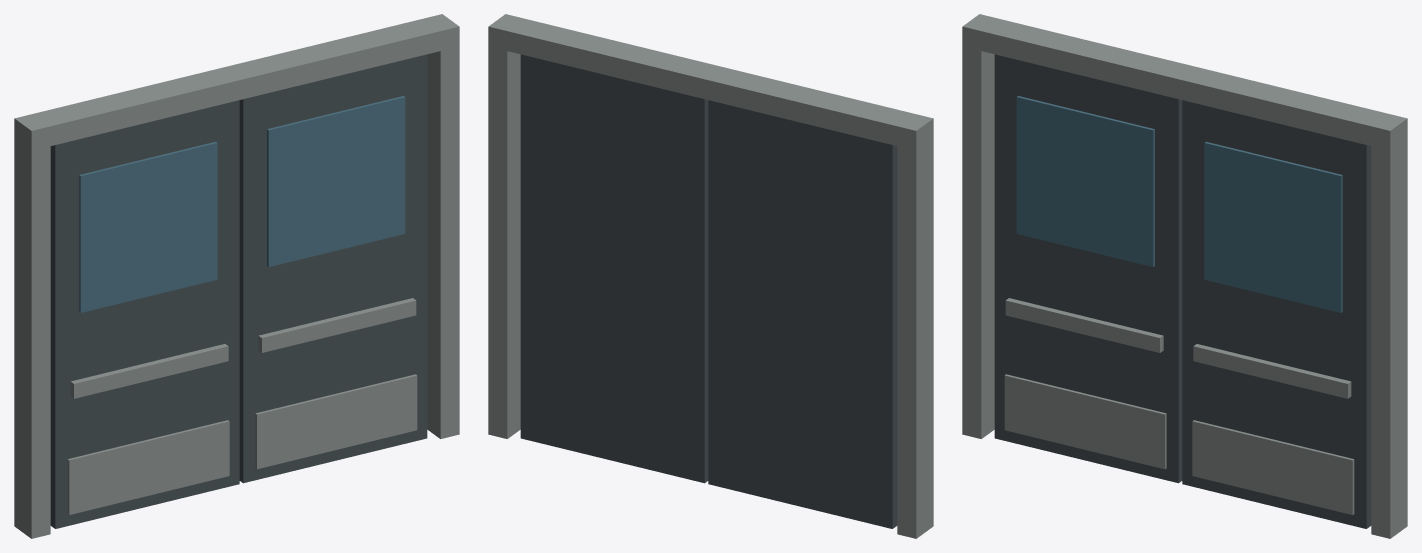
File: entrance_door.glb
The picture shows the model from 3 angles, left to right: view 1: azimuth 30°, elevation 25°; view 2: azimuth 150°, elevation 25°; view 3: azimuth 330°, elevation 25°; orthographic projection.
Parts seen in each view (by area): view 1: entrance_door_Steel, entrance_door_SteelEdge, entrance_door_Blue; view 2: entrance_door_Steel, entrance_door_SteelEdge; view 3: entrance_door_Steel, entrance_door_SteelEdge, entrance_door_Blue.
Part boxes in pixels (box(x1,y1,x2,y2)): entrance_door_Steel: box(50, 54, 427, 528); entrance_door_SteelEdge: box(14, 14, 459, 538); entrance_door_Blue: box(79, 96, 405, 312); entrance_door_Steel: box(520, 54, 897, 528); entrance_door_SteelEdge: box(488, 14, 933, 538); entrance_door_Steel: box(994, 54, 1371, 528); entrance_door_SteelEdge: box(962, 14, 1407, 538); entrance_door_Blue: box(1016, 96, 1342, 312).
Size of the model in its own units: 3.6 by 3.28 by 0.25.
